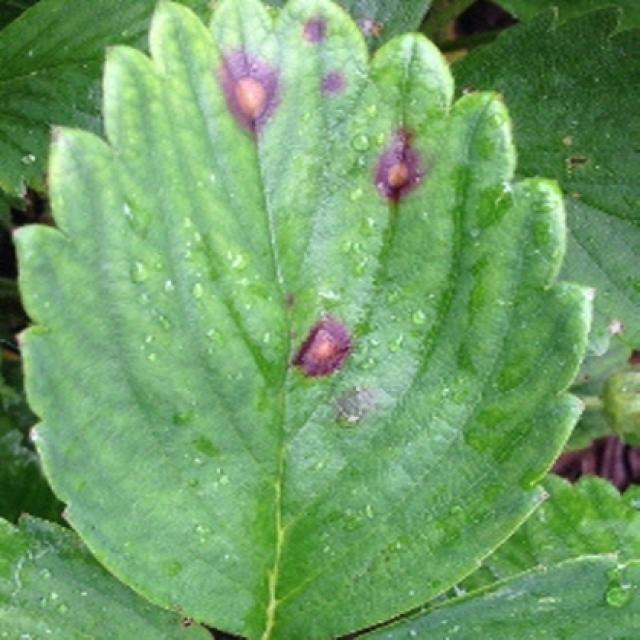Leaf Spot: (10, 0, 598, 638)
